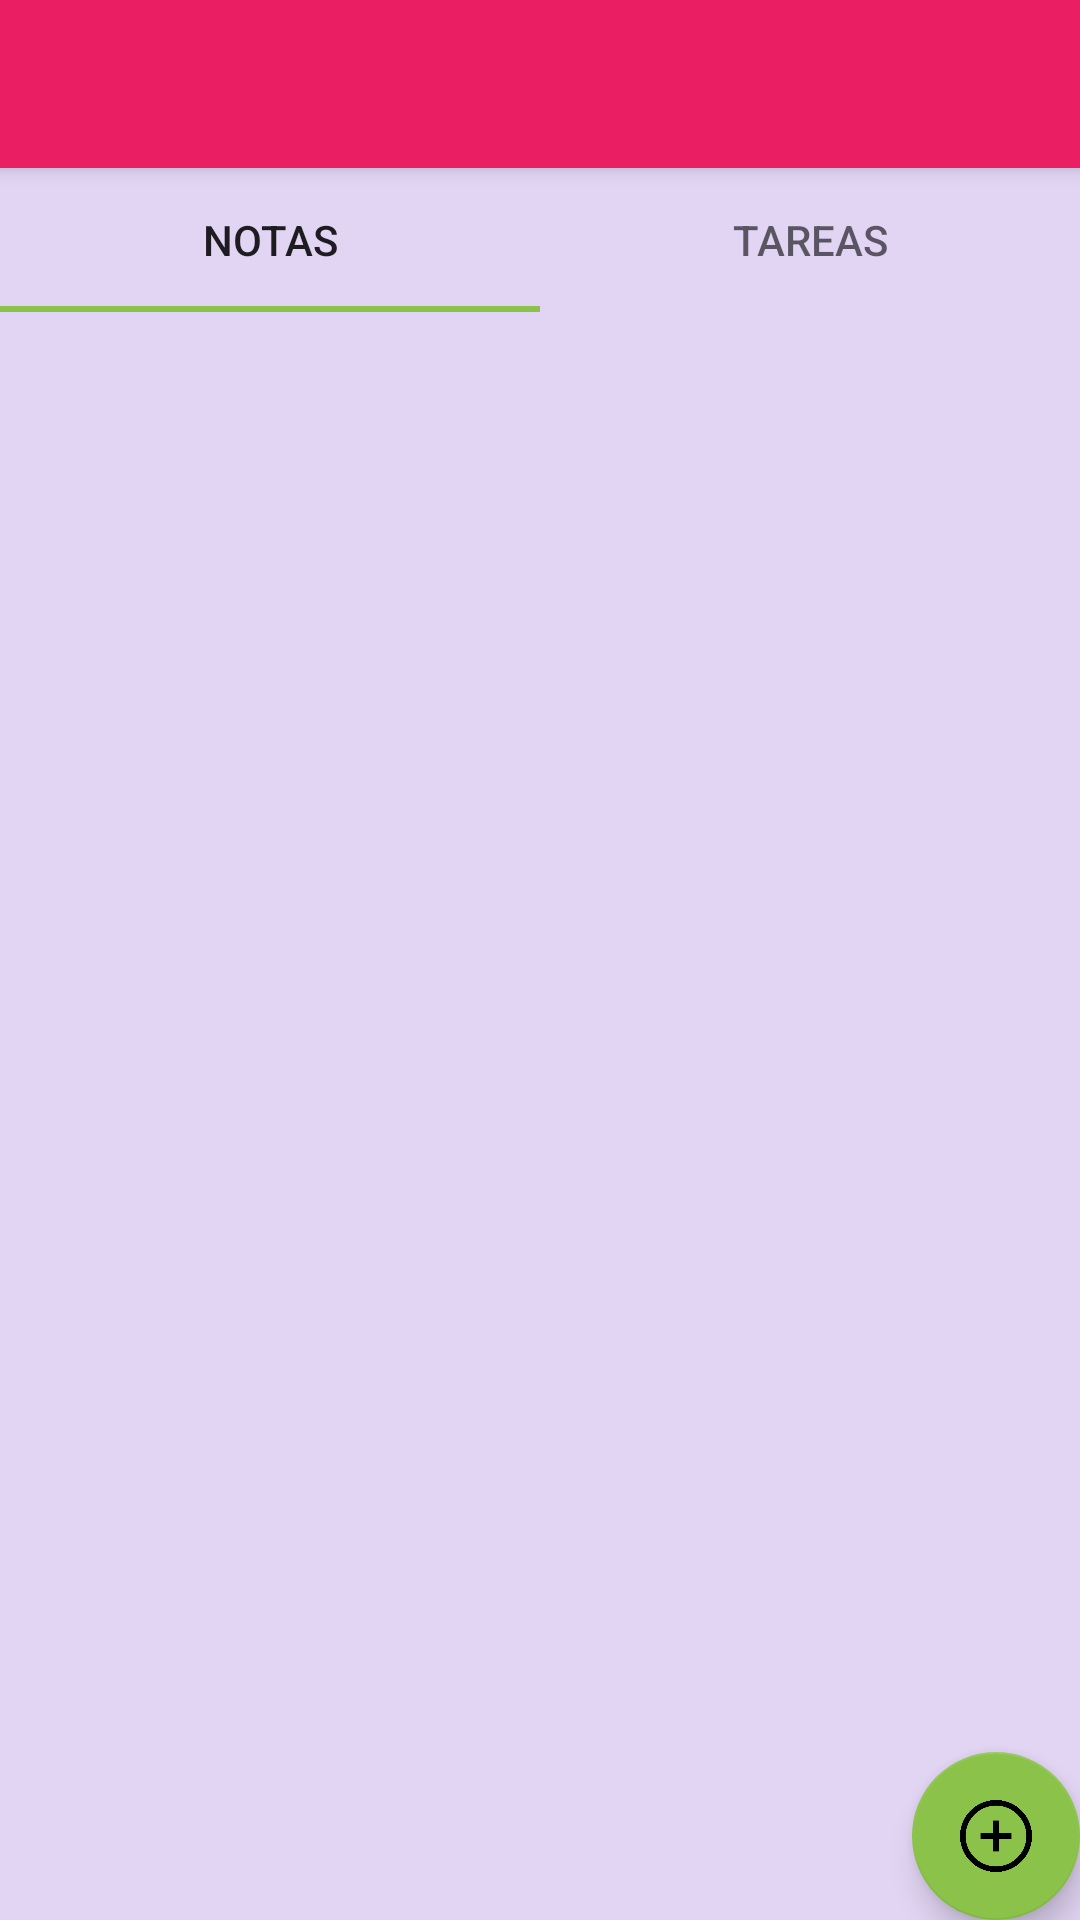

Where to tap for icons on this 1080px×1920px app screen, as (x=x, y=y):
mas: (x=996, y=1836)
